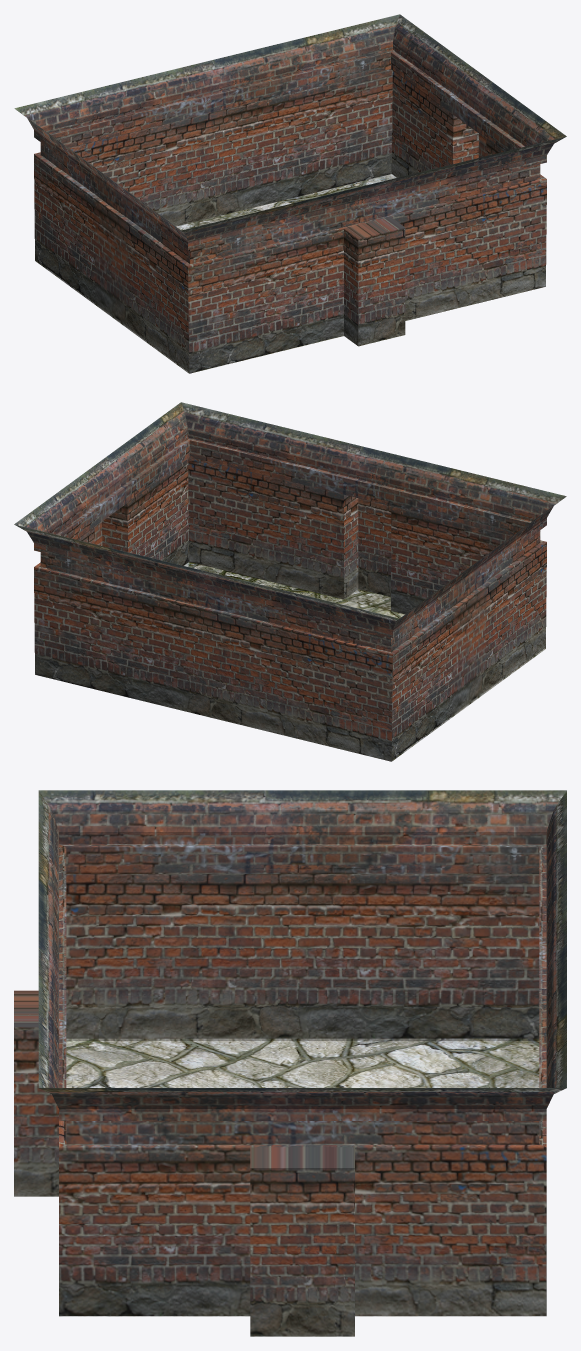
File: RoomLeftTopDoor.fbx
3 views of the same model, one above another, from view 1: azimuth 30°, elevation 25°; view 2: azimuth 150°, elevation 25°; view 3: azimuth 270°, elevation 25° (orthographic). The views are drawn at different scales.
Parts seen in each view (by area): view 1: RoomLeftTopDoor; view 2: RoomLeftTopDoor; view 3: RoomLeftTopDoor.
Boxes of the visible parts, left/top/right/bottom form: RoomLeftTopDoor: left=14, top=14, right=566, bottom=373; RoomLeftTopDoor: left=14, top=402, right=566, bottom=761; RoomLeftTopDoor: left=14, top=790, right=566, bottom=1336.
Bounding box in the file's own units: 826 × 301 × 628.
